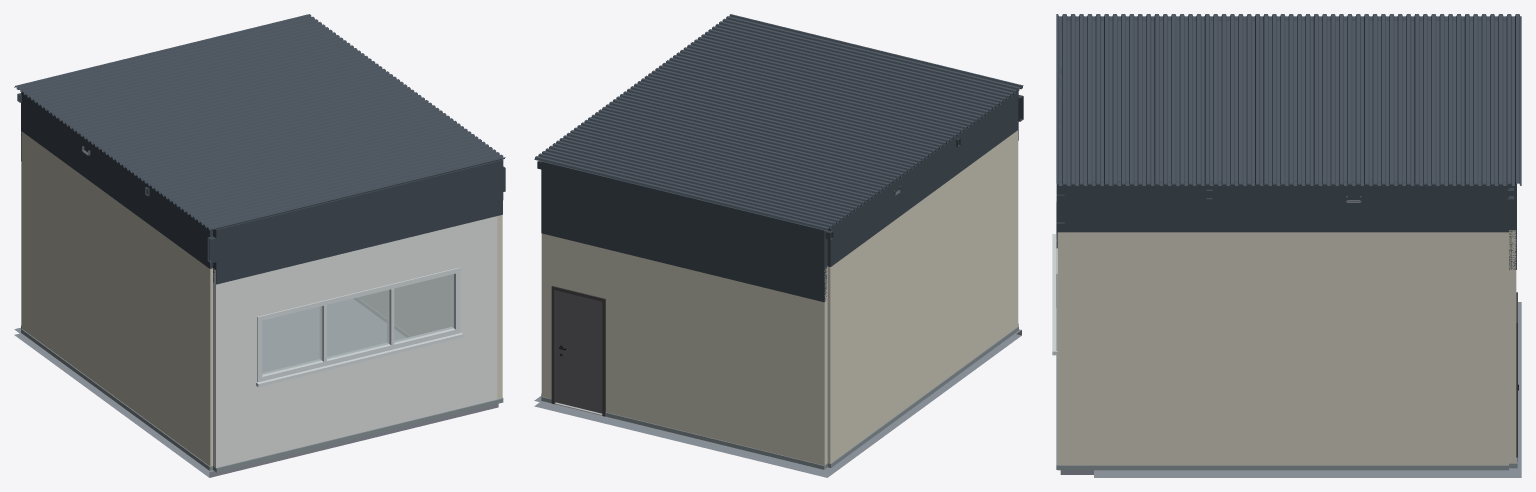
File: room-editor.glb
3 views of the same model, side by side, from view 1: azimuth 30°, elevation 25°; view 2: azimuth 150°, elevation 25°; view 3: azimuth 270°, elevation 25° (orthographic). The views are drawn at different scales.
Parts seen in each view (by area): view 1: Ceiling_Corrugated_Deck, Wall_16_Clean, Wall_17_Clean, Wall_16_Top_Steel_Beam, Floor_Continuous_00, Wall_17_Top_Steel_Beam, Window_06_Pane_2, Window_06_Pane_1, Window_06_Pane_3, Wall_26_Clean, Window_06_Frame_Horizontal_-1, Wall_16_Skirting_0 (+5 smaller); view 2: Ceiling_Corrugated_Deck, Wall_21_Clean, Wall_17_Clean, Wall_21_Top_Steel_Beam, Wall_17_Top_Steel_Beam, Door_03_CLOSED_Leaf, Floor_Continuous_00, Wall_21_Skirting_0, Wall_17_Skirting_0, Door_03_CLOSED_Jamb_L; view 3: Wall_26_Clean, Ceiling_Corrugated_Deck, Wall_26_Top_Steel_Beam, Wall_29_Clean, Floor_Continuous_00, Wall_26_Skirting_0, Wall_21_Clean, Wall_29_Top_Steel_Beam, Wall_21_Top_Steel_Beam, Window_06_Sill.
Part boxes in pixels (<box>): Ceiling_Corrugated_Deck: <box>14,14,505,230</box>; Wall_16_Clean: <box>213,216,497,467</box>; Wall_17_Clean: <box>21,131,212,466</box>; Wall_16_Top_Steel_Beam: <box>213,159,502,284</box>; Floor_Continuous_00: <box>14,299,498,477</box>; Wall_17_Top_Steel_Beam: <box>21,92,212,268</box>; Window_06_Pane_2: <box>327,290,389,359</box>; Window_06_Pane_1: <box>262,306,322,374</box>; Window_06_Pane_3: <box>394,274,453,342</box>; Wall_26_Clean: <box>359,275,451,335</box>; Window_06_Frame_Horizontal_-1: <box>262,327,455,381</box>; Wall_16_Skirting_0: <box>213,398,503,472</box>; Ceiling_Corrugated_Deck: <box>534,14,1023,231</box>; Wall_21_Clean: <box>541,233,827,465</box>; Wall_17_Clean: <box>827,130,1017,463</box>; Wall_21_Top_Steel_Beam: <box>541,161,827,301</box>; Wall_17_Top_Steel_Beam: <box>827,91,1018,266</box>; Door_03_CLOSED_Leaf: <box>556,290,602,413</box>; Floor_Continuous_00: <box>534,329,1021,477</box>; Wall_21_Skirting_0: <box>605,412,827,469</box>; Wall_17_Skirting_0: <box>827,326,1018,467</box>; Door_03_CLOSED_Jamb_L: <box>551,286,555,404</box>; Wall_26_Clean: <box>1094,232,1508,465</box>; Ceiling_Corrugated_Deck: <box>1056,14,1521,185</box>; Wall_26_Top_Steel_Beam: <box>1094,181,1508,232</box>; Wall_29_Clean: <box>1057,232,1093,465</box>; Floor_Continuous_00: <box>1060,302,1521,477</box>; Wall_26_Skirting_0: <box>1094,465,1508,470</box>; Wall_21_Clean: <box>1509,230,1516,463</box>; Wall_29_Top_Steel_Beam: <box>1057,181,1093,232</box>; Wall_21_Top_Steel_Beam: <box>1509,183,1516,269</box>; Window_06_Sill: <box>1052,234,1057,355</box>.
Bounding box in the file's own units: 5.5 × 4.46 × 6.44.
